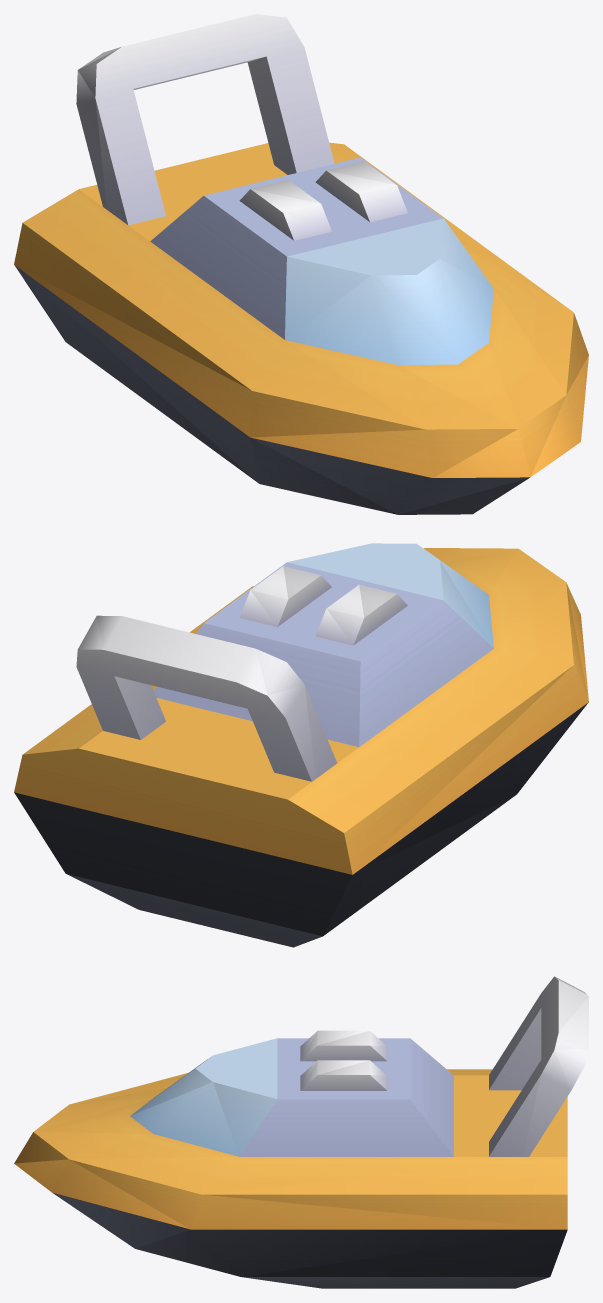
File: kw_boat_speed_b.fbx
3 renders of one model, top to bottom at view 1: azimuth 30°, elevation 25°; view 2: azimuth 150°, elevation 25°; view 3: azimuth 270°, elevation 25°, orthographic. The views are drawn at different scales.
Visible parts, largest first — view 1: kw_boat_speed_b; view 2: kw_boat_speed_b; view 3: kw_boat_speed_b.
Part boxes in pixels (x1,y1,x2,y2): kw_boat_speed_b: (14,14,588,514); kw_boat_speed_b: (14,543,588,947); kw_boat_speed_b: (14,976,588,1288).
Size of the model in its own units: 3.75 by 3.34 by 6.91.
